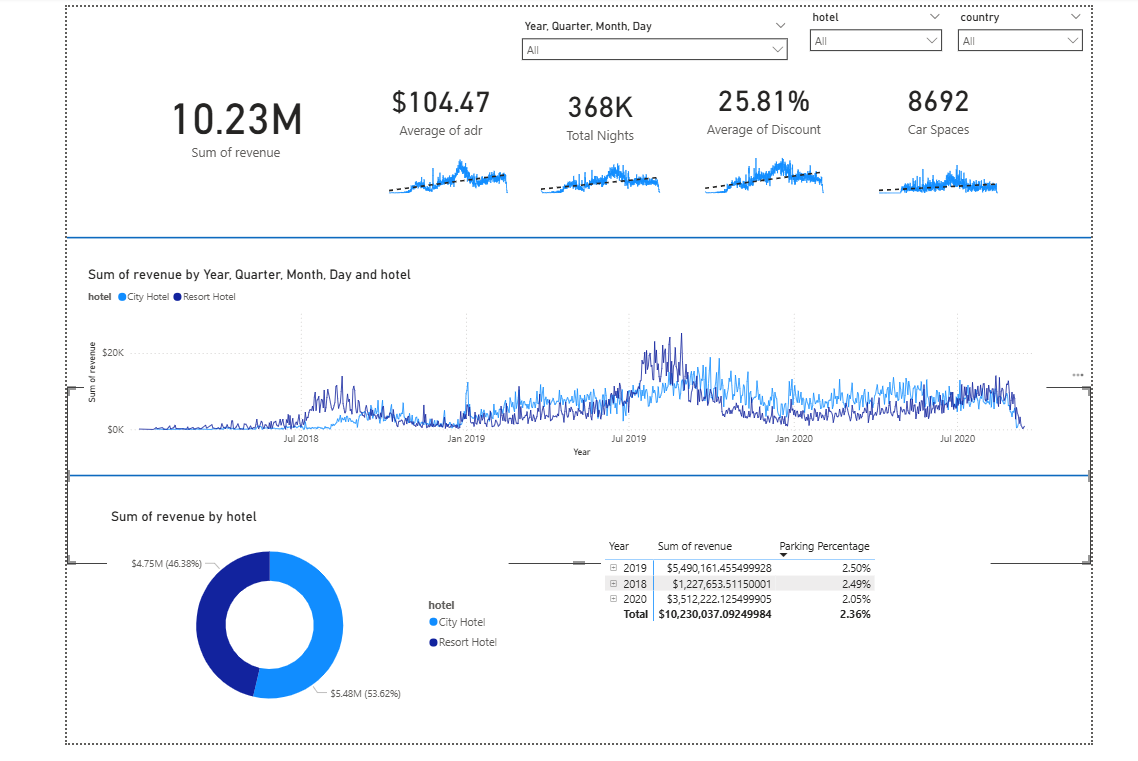

What the dashboard file says about the page in this screenshot:
{"tool":"powerbi","page":{"name":"Page 1","canvas":[1280,920],"ordinal":0},"visuals":[{"type":"shape","box":[0,147.2,1280.4,281.6],"z":0},{"type":"shape","box":[0,475.1,1280.4,221.3],"z":1000},{"type":"card","fields":{"Values":["Sum(hotel_data_cleaned.revenue)"]},"box":[34.8,44,352.2,199.3],"z":2000},{"type":"card","fields":{"Values":["Avg(hotel_data_cleaned.adr)"]},"box":[360.3,61,214.4,128.4],"z":3000},{"type":"card","fields":{"Values":["hotel_data_cleaned.total nights"]},"box":[574.7,74.2,183.1,115.9],"z":4000},{"type":"card","fields":{"Values":["Avg(hotel_data_cleaned.Discount)"]},"box":[789.1,66,164.5,117],"z":5000},{"type":"lineChart","fields":{"Category":["hotel_data_cleaned.reservation_status_date.Variation.Date Hierarchy.Year","hotel_data_cleaned.reservation_status_date.Variation.Date Hierarchy.Quarter","hotel_data_cleaned.reservation_status_date.Variation.Date Hierarchy.Month","hotel_data_cleaned.reservation_status_date.Variation.Date Hierarchy.Day"],"Y":["Sum(hotel_data_cleaned.revenue)"],"Series":["hotel_data_cleaned.hotel"]},"box":[20.9,323.3,1202.7,243.3],"z":6000},{"type":"slicer","fields":{"Values":["hotel_data_cleaned.country"]},"box":[1103.7,0,176.3,72.9],"z":7000},{"type":"slicer","fields":{"Values":["hotel_data_cleaned.hotel"]},"box":[918.6,0,185,72.9],"z":8000},{"type":"lineChart","fields":{"Category":["hotel_data_cleaned.reservation_status_date.Variation.Date Hierarchy.Year","hotel_data_cleaned.reservation_status_date.Variation.Date Hierarchy.Quarter","hotel_data_cleaned.reservation_status_date.Variation.Date Hierarchy.Month","hotel_data_cleaned.reservation_status_date.Variation.Date Hierarchy.Day"],"Y":["Sum(hotel_data_cleaned.adr)"]},"box":[387,171.5,178.4,67.2],"z":9000},{"type":"lineChart","fields":{"Category":["hotel_data_cleaned.reservation_status_date.Variation.Date Hierarchy.Year","hotel_data_cleaned.reservation_status_date.Variation.Date Hierarchy.Quarter","hotel_data_cleaned.reservation_status_date.Variation.Date Hierarchy.Month","hotel_data_cleaned.reservation_status_date.Variation.Date Hierarchy.Day"],"Y":["hotel_data_cleaned.Total Nights"]},"box":[577,171.5,178.4,67.2],"z":10000},{"type":"lineChart","fields":{"Category":["hotel_data_cleaned.reservation_status_date.Variation.Date Hierarchy.Year","hotel_data_cleaned.reservation_status_date.Variation.Date Hierarchy.Quarter","hotel_data_cleaned.reservation_status_date.Variation.Date Hierarchy.Month","hotel_data_cleaned.reservation_status_date.Variation.Date Hierarchy.Day"],"Y":["Sum(hotel_data_cleaned.Discount)"]},"box":[782.1,171.5,178.4,67.2],"z":11000},{"type":"card","fields":{"Values":["Sum(hotel_data_cleaned.required_car_parking_spaces)"]},"box":[986,60.3,206.2,128.6],"z":12000},{"type":"lineChart","fields":{"Category":["hotel_data_cleaned.reservation_status_date.Variation.Date Hierarchy.Year","hotel_data_cleaned.reservation_status_date.Variation.Date Hierarchy.Quarter","hotel_data_cleaned.reservation_status_date.Variation.Date Hierarchy.Month","hotel_data_cleaned.reservation_status_date.Variation.Date Hierarchy.Day"],"Y":["Sum(hotel_data_cleaned.required_car_parking_spaces)"]},"box":[999.9,171.5,178.4,67.2],"z":13000},{"type":"donutChart","fields":{"Category":["hotel_data_cleaned.hotel"],"Y":["Sum(hotel_data_cleaned.revenue)"]},"box":[49.8,626.9,501.7,273.5],"z":14000},{"type":"pivotTable","fields":{"Rows":["hotel_data_cleaned.reservation_status_date.Variation.Date Hierarchy.Year","hotel_data_cleaned.hotel"],"Values":["Sum(hotel_data_cleaned.revenue)","hotel_data_cleaned.Parking Percentage"]},"box":[667.4,659.3,486.6,260.7],"z":15000},{"type":"slicer","fields":{"Values":["hotel_data_cleaned.reservation_status_date.Variation.Date Hierarchy.Year","hotel_data_cleaned.reservation_status_date.Variation.Date Hierarchy.Quarter","hotel_data_cleaned.reservation_status_date.Variation.Date Hierarchy.Month","hotel_data_cleaned.reservation_status_date.Variation.Date Hierarchy.Day"]},"box":[558.5,11.6,352.2,61.4],"z":16000}]}

Visuals, with their boxes on the page's 1280x920 design canvas (x1, y1, x2, y2). These are canvas units, not pixel positions in the 1138x761 screenshot, which may show the page scaled, cropped or inside an application window:
shape: bbox=[0, 147, 1280, 429]
shape: bbox=[0, 475, 1280, 696]
card - Sum(hotel_data_cleaned.revenue): bbox=[35, 44, 387, 243]
card - Avg(hotel_data_cleaned.adr): bbox=[360, 61, 575, 189]
card - hotel_data_cleaned.total nights: bbox=[575, 74, 758, 190]
card - Avg(hotel_data_cleaned.Discount): bbox=[789, 66, 954, 183]
lineChart - hotel_data_cleaned.reservation_status_date.Variation.Date Hierarchy.Year x hotel_data_cleaned.reservation_status_date.Variation.Date Hierarchy.Quarter: bbox=[21, 323, 1224, 567]
slicer - hotel_data_cleaned.country: bbox=[1104, 0, 1280, 73]
slicer - hotel_data_cleaned.hotel: bbox=[919, 0, 1104, 73]
lineChart - hotel_data_cleaned.reservation_status_date.Variation.Date Hierarchy.Year x hotel_data_cleaned.reservation_status_date.Variation.Date Hierarchy.Quarter: bbox=[387, 172, 565, 239]
lineChart - hotel_data_cleaned.reservation_status_date.Variation.Date Hierarchy.Year x hotel_data_cleaned.reservation_status_date.Variation.Date Hierarchy.Quarter: bbox=[577, 172, 755, 239]
lineChart - hotel_data_cleaned.reservation_status_date.Variation.Date Hierarchy.Year x hotel_data_cleaned.reservation_status_date.Variation.Date Hierarchy.Quarter: bbox=[782, 172, 960, 239]
card - Sum(hotel_data_cleaned.required_car_parking_spaces): bbox=[986, 60, 1192, 189]
lineChart - hotel_data_cleaned.reservation_status_date.Variation.Date Hierarchy.Year x hotel_data_cleaned.reservation_status_date.Variation.Date Hierarchy.Quarter: bbox=[1000, 172, 1178, 239]
donutChart - hotel_data_cleaned.hotel x Sum(hotel_data_cleaned.revenue): bbox=[50, 627, 552, 900]
pivotTable - hotel_data_cleaned.reservation_status_date.Variation.Date Hierarchy.Year x hotel_data_cleaned.hotel: bbox=[667, 659, 1154, 920]
slicer - hotel_data_cleaned.reservation_status_date.Variation.Date Hierarchy.Year x hotel_data_cleaned.reservation_status_date.Variation.Date Hierarchy.Quarter: bbox=[558, 12, 911, 73]
